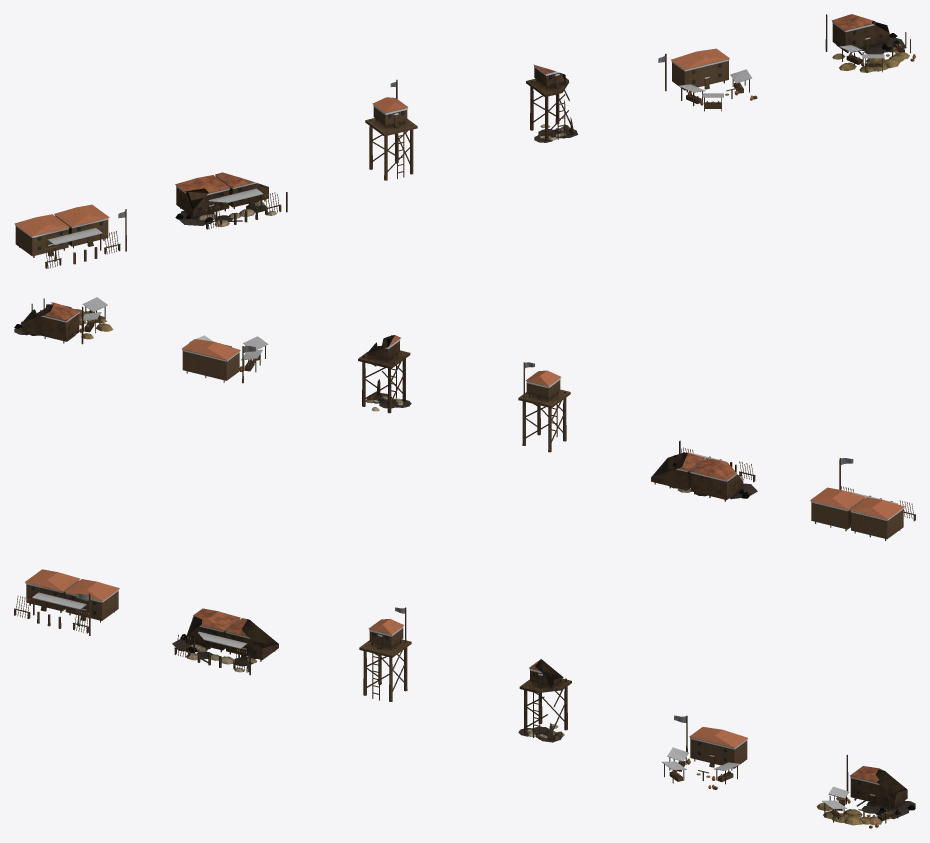
File: rts-classical-monsoon.glb
3 views of the same model, one above another, from view 1: azimuth 30°, elevation 25°; view 2: azimuth 150°, elevation 25°; view 3: azimuth 330°, elevation 25° (orthographic).
Visible parts, largest first — view 1: LOD0.001, LOD0, LOD0.005, LOD0.004, LOD0.002, LOD0.003; view 2: LOD0, LOD0.001, LOD0.005, LOD0.004, LOD0.002, LOD0.003; view 3: LOD0.001, LOD0, LOD0.005, LOD0.004, LOD0.002, LOD0.003.
Boxes of the visible parts, box(x1,y1,x2,y2) form: LOD0.001: box(175, 172, 287, 229); LOD0: box(14, 204, 126, 268); LOD0.005: box(825, 14, 915, 72); LOD0.004: box(658, 48, 757, 111); LOD0.002: box(365, 79, 417, 180); LOD0.003: box(526, 64, 577, 142); LOD0: box(810, 458, 915, 540); LOD0.001: box(651, 440, 757, 501); LOD0.005: box(14, 297, 113, 344); LOD0.004: box(182, 335, 268, 383); LOD0.002: box(518, 362, 570, 452); LOD0.003: box(358, 335, 411, 413); LOD0.001: box(172, 608, 278, 675); LOD0: box(14, 569, 119, 635); LOD0.005: box(816, 754, 915, 828); LOD0.004: box(662, 715, 747, 789); LOD0.002: box(359, 607, 411, 701); LOD0.003: box(518, 659, 571, 742).
Size of what is drawn, in the model's own units: 16.4 by 1.48 by 1.38.
2 materials, 2 textured.
